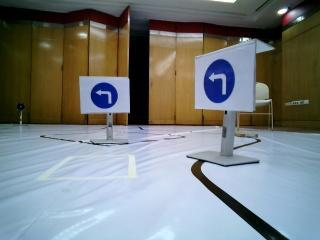left: (196, 59, 246, 110), (83, 79, 121, 111)
